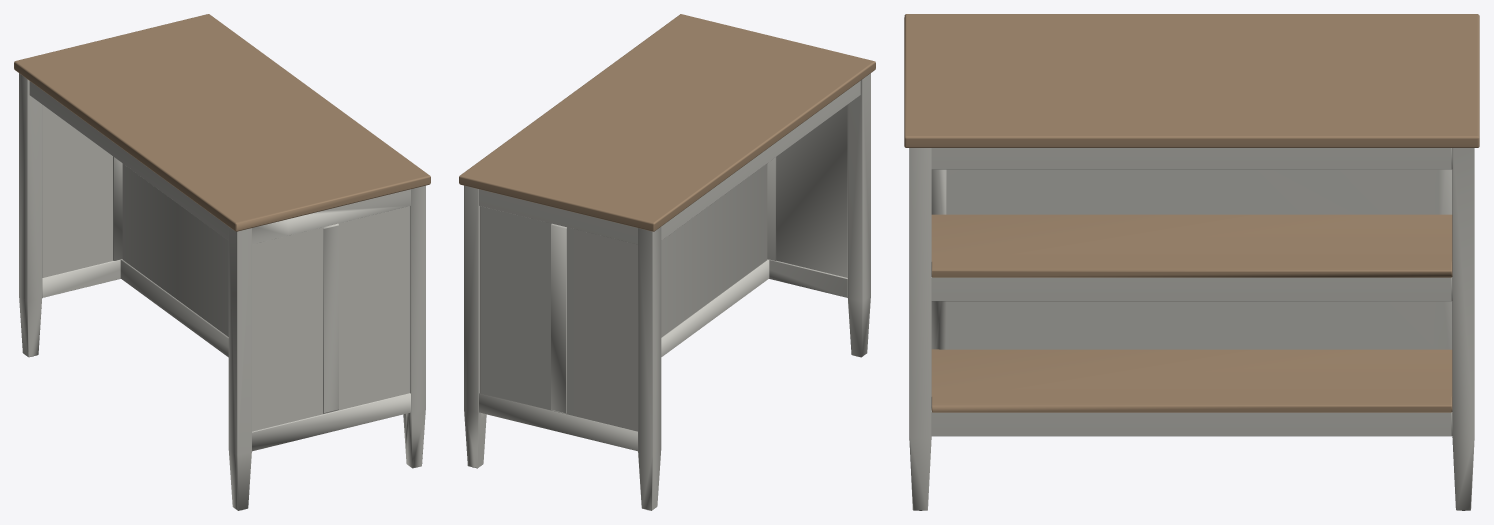
File: kitchen_island.glb
3 views of the same model, side by side, from view 1: azimuth 30°, elevation 25°; view 2: azimuth 150°, elevation 25°; view 3: azimuth 270°, elevation 25° (orthographic). The views are drawn at different scales.
Parts seen in each view (by area): view 1: body; view 2: body; view 3: body.
Part boxes in pixels (left/top/right/bottom): body: left=14, top=14, right=430, bottom=510; body: left=459, top=14, right=875, bottom=510; body: left=904, top=14, right=1479, bottom=510.
Bounding box in the file's own units: 0.6313 × 0.9005 × 1.24.
